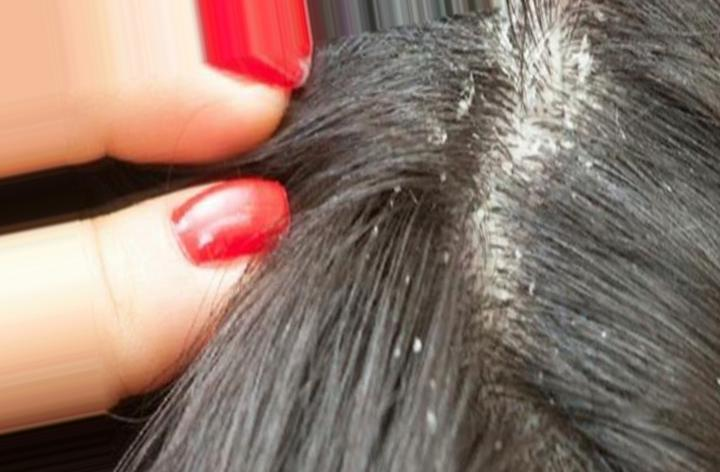Contact Dermatitis: (365, 60, 641, 412)
